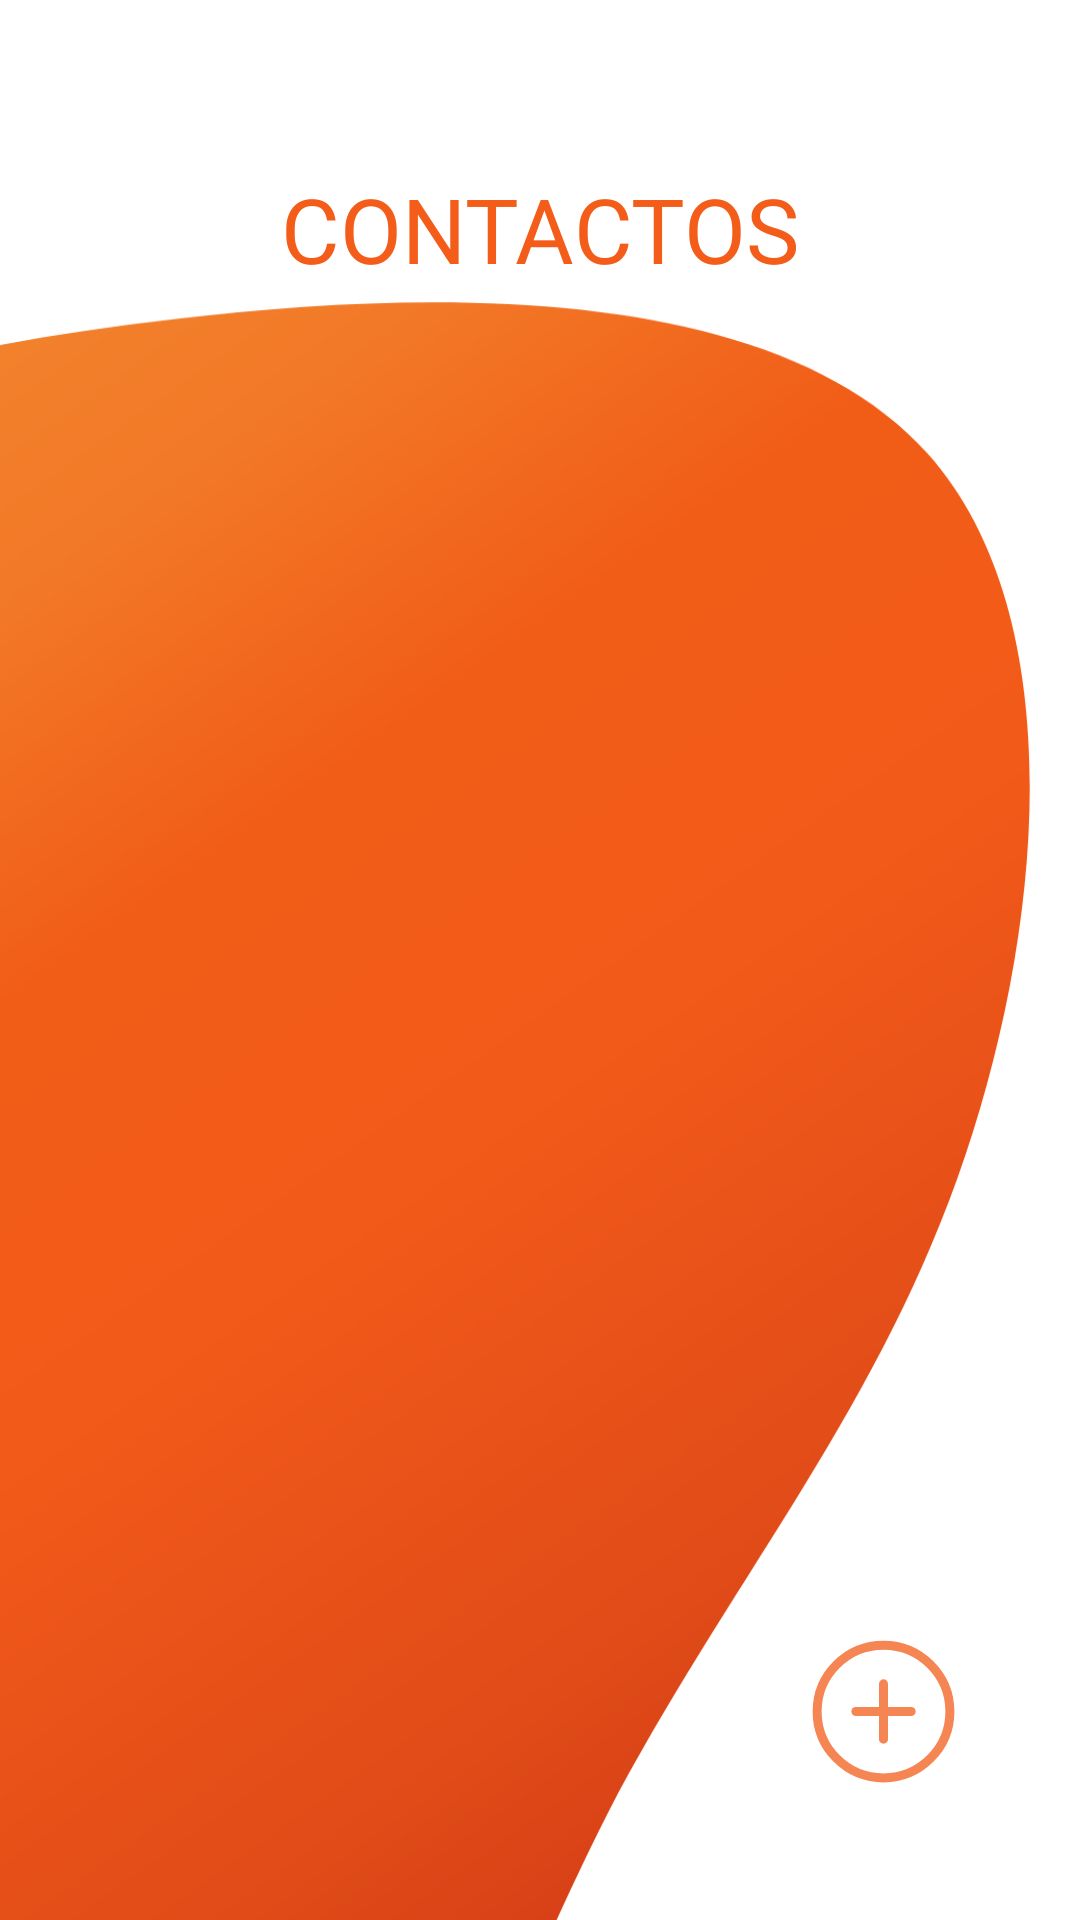

Named icons in this screenshot (1080×1920) and their centers, (x,y):
pluscircle: (883,1711)
